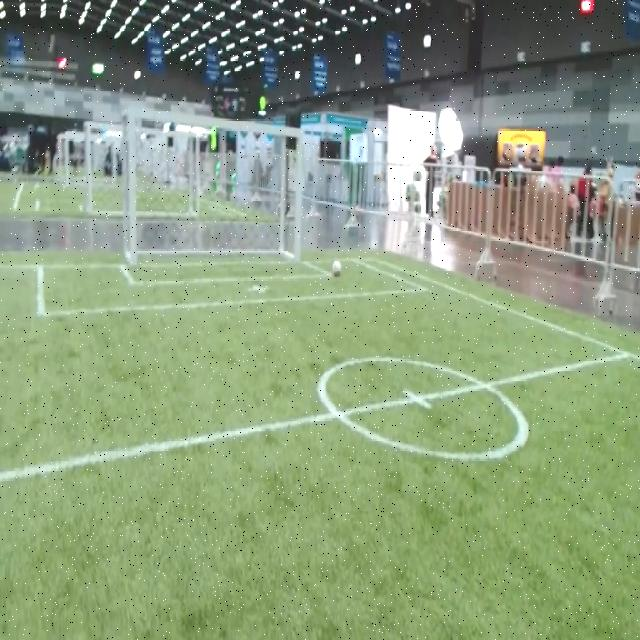ball: (331, 258, 340, 279)
goalpost: (290, 242, 303, 266), (128, 241, 138, 269)
